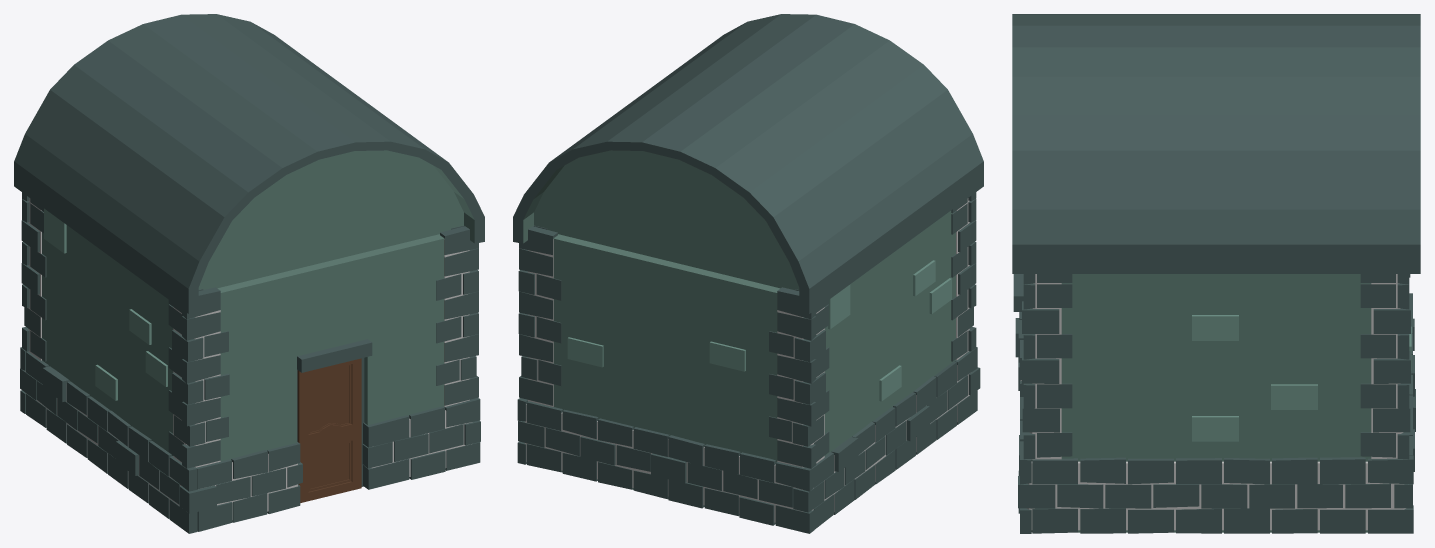
Rendered from 1Story_RoundRoof_Mat.gltf.
3 renders of one model, left to right at view 1: azimuth 30°, elevation 25°; view 2: azimuth 150°, elevation 25°; view 3: azimuth 270°, elevation 25°, orthographic. The views are drawn at different scales.
Visible parts, largest first — view 1: 1Story_RoundRoof_Mat; view 2: 1Story_RoundRoof_Mat; view 3: 1Story_RoundRoof_Mat.
Boxes of the visible parts, x1=… form: 1Story_RoundRoof_Mat: x1=14, y1=14, x2=484, y2=533; 1Story_RoundRoof_Mat: x1=513, y1=14, x2=983, y2=533; 1Story_RoundRoof_Mat: x1=1012, y1=14, x2=1420, y2=533.
Size of the model in its own units: 2.09 by 2.38 by 2.13.
